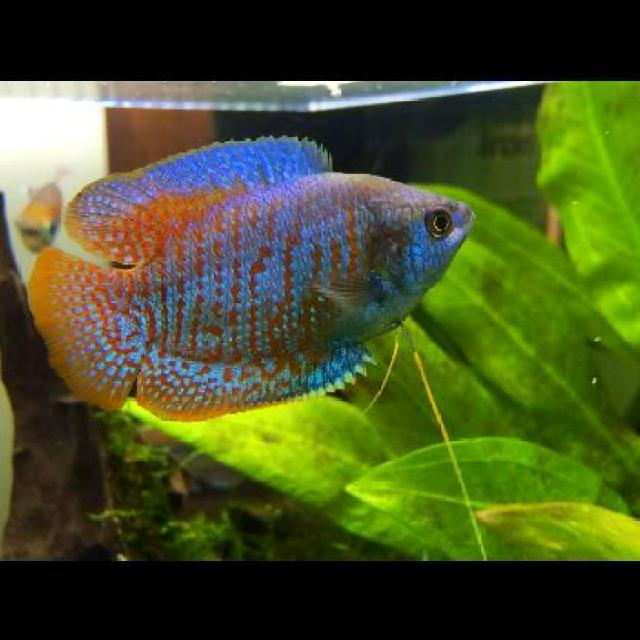Gourami: (25, 134, 477, 420)
